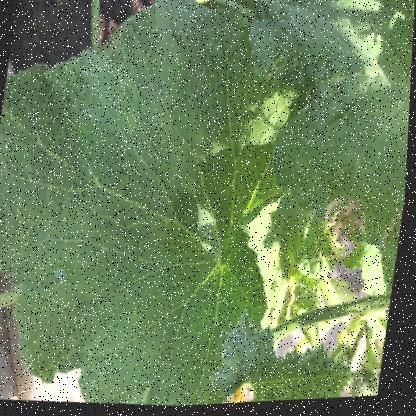Normal: (0, 39, 264, 415)
